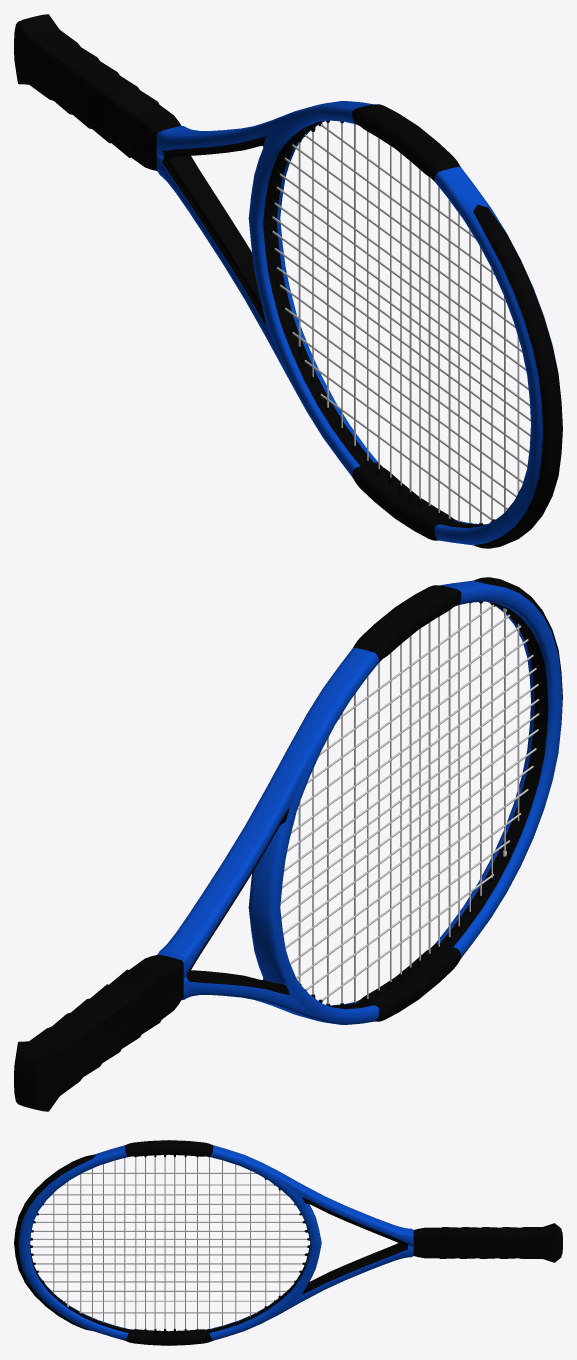
The model's file is racket.obj.
3 renders of one model, top to bottom at view 1: azimuth 30°, elevation 25°; view 2: azimuth 150°, elevation 25°; view 3: azimuth 270°, elevation 25°, orthographic. The views are drawn at different scales.
Parts seen in each view (by area): view 1: Tennis_Racketzz001_Untitled.002; view 2: Tennis_Racketzz001_Untitled.002; view 3: Tennis_Racketzz001_Untitled.002.
Boxes of the visible parts, x1,y1,x2,y2 form: Tennis_Racketzz001_Untitled.002: [14, 14, 562, 548]; Tennis_Racketzz001_Untitled.002: [14, 577, 562, 1111]; Tennis_Racketzz001_Untitled.002: [14, 1140, 562, 1345].
Bounding box in the file's own units: 0.022 × 0.2441 × 0.6041.
